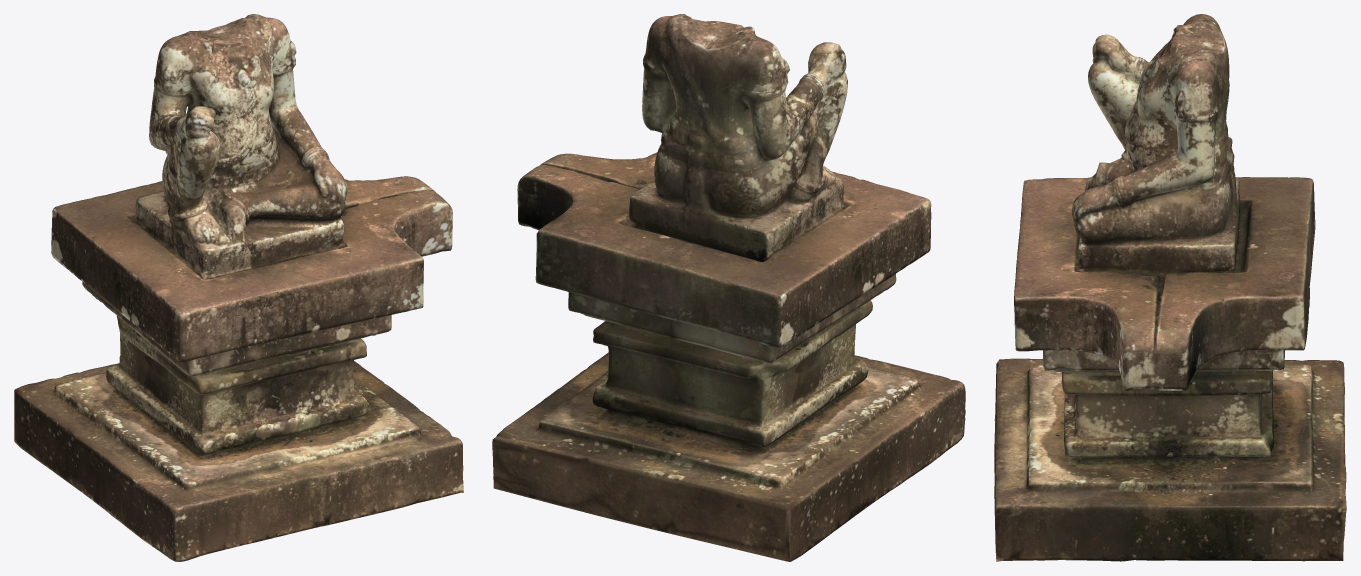
The model's file is 27_MysonSanctuaryD_ThanSiva_final.glb.
3 views of the same model, side by side, from view 1: azimuth 30°, elevation 25°; view 2: azimuth 150°, elevation 25°; view 3: azimuth 270°, elevation 25° (orthographic). The views are drawn at different scales.
Size of the model in its own units: 1.31 by 1.59 by 1.12.
1 material, 1 textured.
